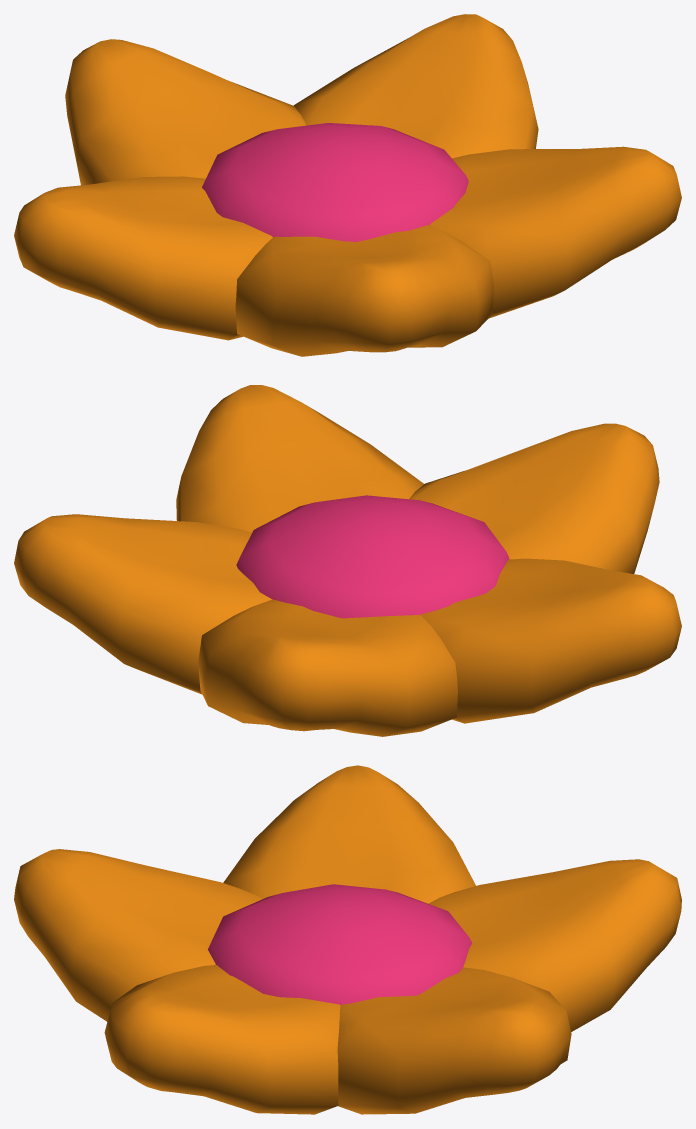
Rendered from Flower_1.fbx.
3 renders of one model, top to bottom at view 1: azimuth 30°, elevation 25°; view 2: azimuth 150°, elevation 25°; view 3: azimuth 270°, elevation 25°, orthographic. The views are drawn at different scales.
Visible parts, largest first — view 1: Flower_1; view 2: Flower_1; view 3: Flower_1.
Part boxes in pixels (x1,y1,x2,y2): Flower_1: (14, 14, 681, 356); Flower_1: (14, 385, 681, 736); Flower_1: (14, 765, 681, 1114).
Bounding box in the file's own units: 49.27 × 14.31 × 50.72.
